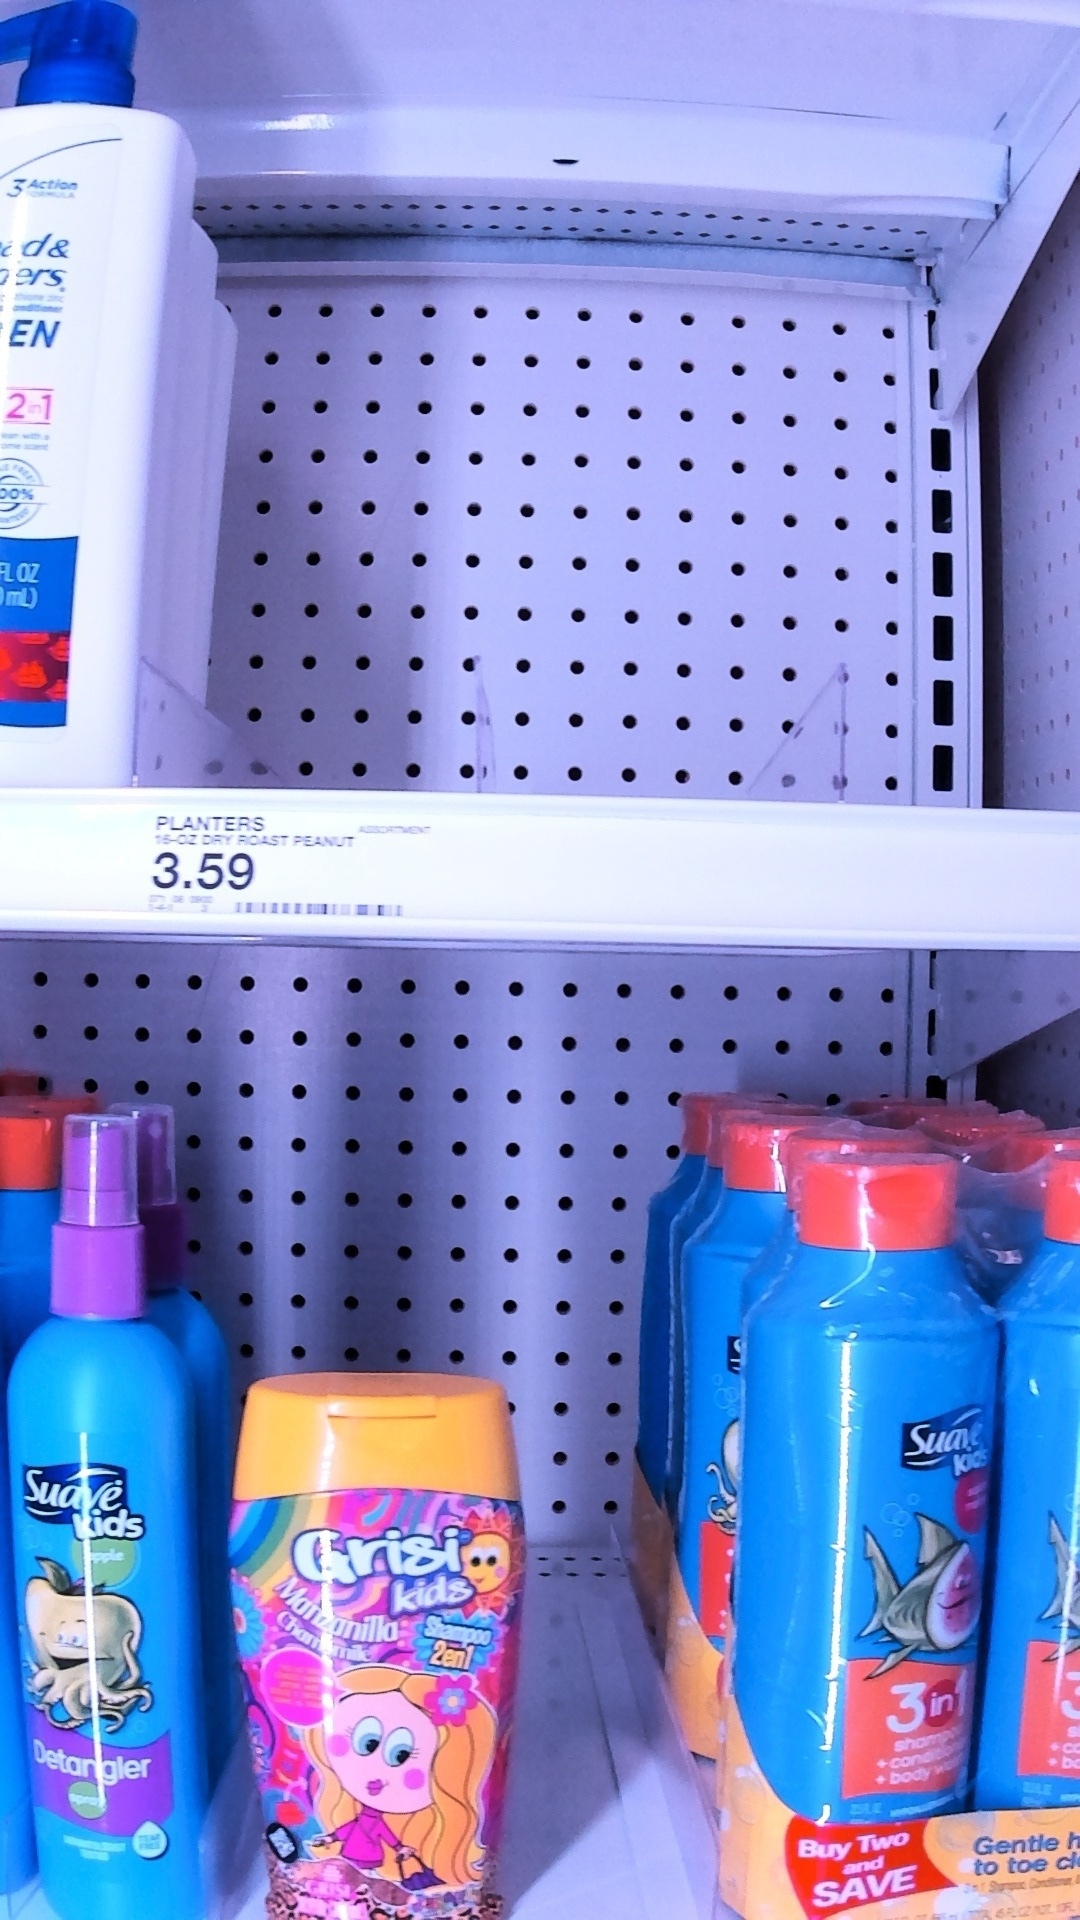ptag: (144, 785, 442, 940)
